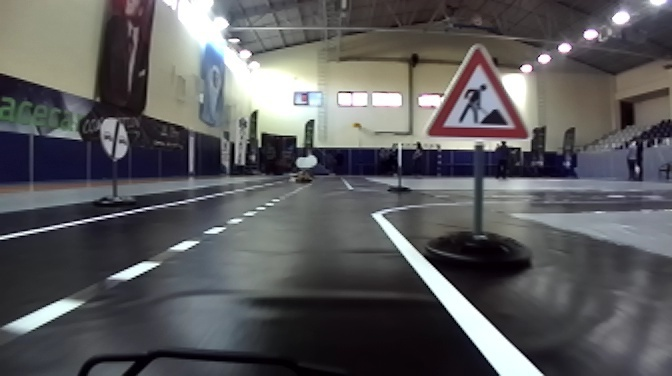yol_yapimi: (419, 39, 532, 147)
